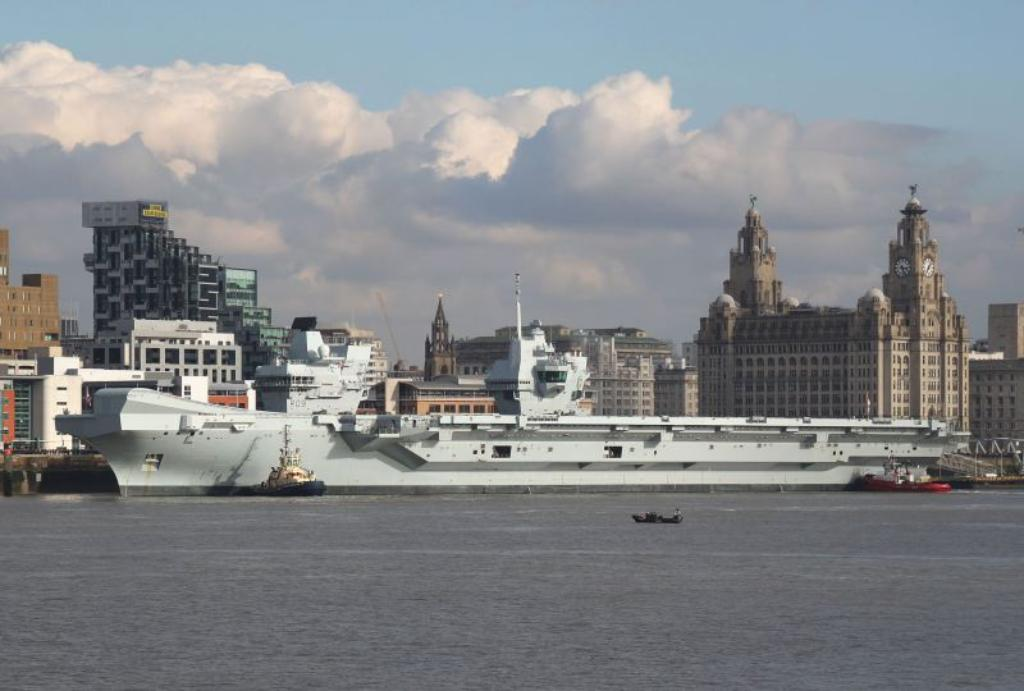Warship: (51, 262, 971, 508)
